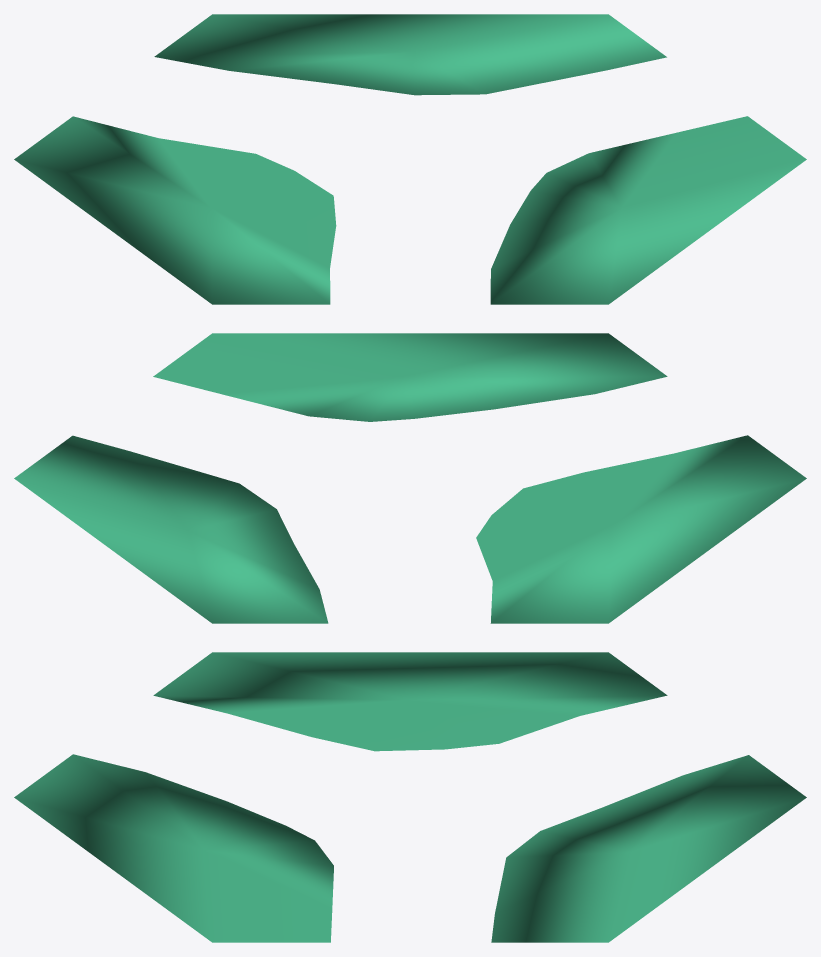
Rendered from riverG_flat.fbx.
3 renders of one model, top to bottom at view 1: azimuth 30°, elevation 25°; view 2: azimuth 150°, elevation 25°; view 3: azimuth 270°, elevation 25°, orthographic.
Parts seen in each view (by area): view 1: hex_forest_roadG_Cylinder.488; view 2: hex_forest_roadG_Cylinder.488; view 3: hex_forest_roadG_Cylinder.488.
Part boxes in pixels (x1,y1,x2,y2): hex_forest_roadG_Cylinder.488: (14,14,806,304); hex_forest_roadG_Cylinder.488: (14,333,806,623); hex_forest_roadG_Cylinder.488: (14,652,806,942).
Size of the model in its own units: 190 by 1.66e-05 by 220.
